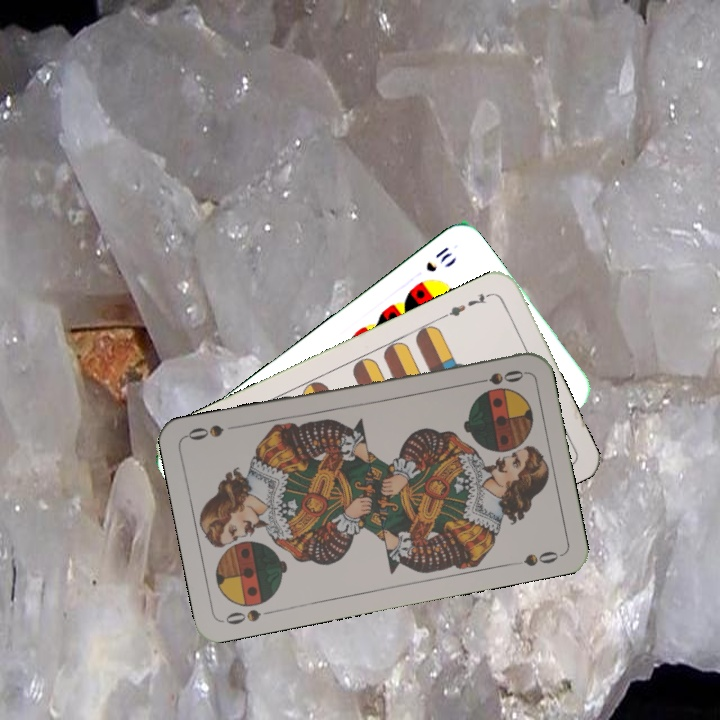E7: (439, 288, 495, 321)
S10: (421, 242, 455, 275)
SO: (219, 605, 278, 627), (468, 366, 526, 388)
